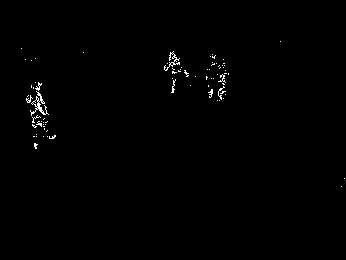person: (24, 80, 56, 149), (163, 50, 189, 93), (218, 59, 231, 99), (205, 53, 214, 99)
